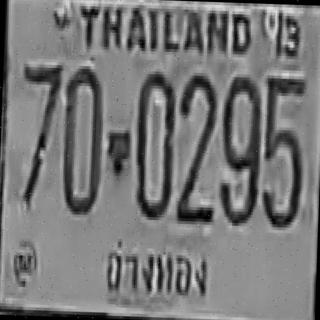N00: (60, 62, 103, 212), (132, 68, 175, 217)
N02: (175, 74, 216, 220)
N05: (259, 72, 304, 225)
N07: (17, 61, 62, 205)
N09: (216, 74, 261, 224)
P02: (96, 227, 216, 312)
